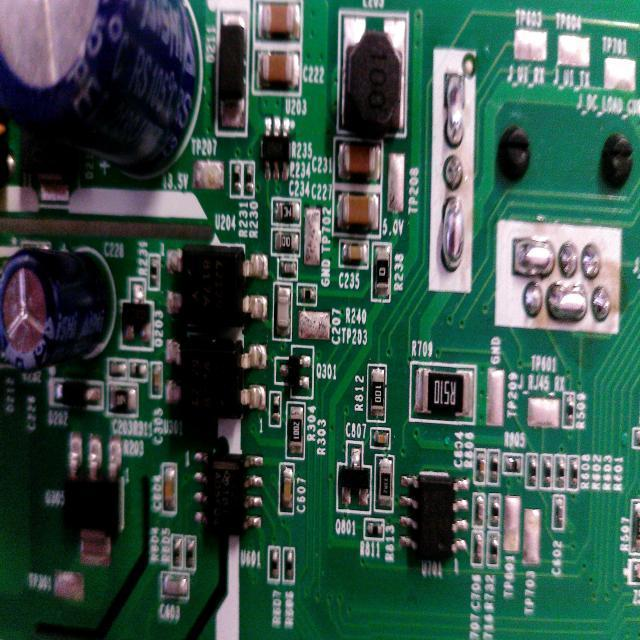Soldering shorted: (544, 282, 593, 339), (440, 194, 467, 276), (510, 234, 557, 279), (444, 69, 466, 155)
